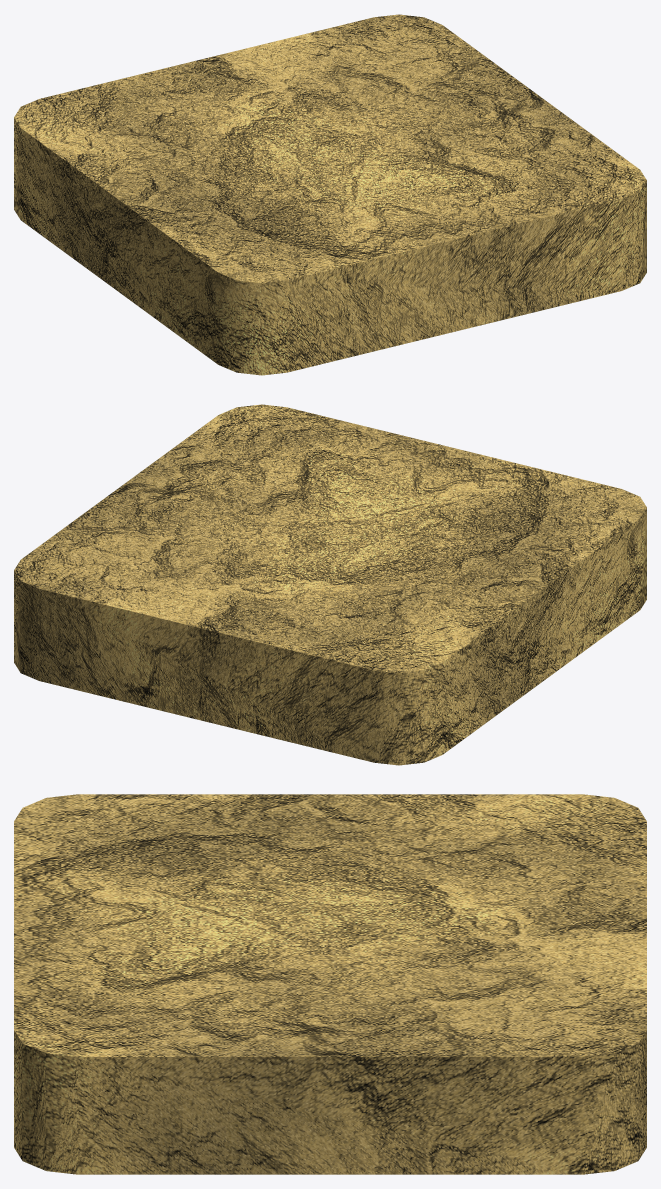
File: Base_tile.fbx
3 views of the same model, one above another, from view 1: azimuth 30°, elevation 25°; view 2: azimuth 150°, elevation 25°; view 3: azimuth 270°, elevation 25° (orthographic). The views are drawn at different scales.
Parts seen in each view (by area): view 1: pCube3; view 2: pCube3; view 3: pCube3.
Boxes of the visible parts, x1=… form: pCube3: x1=14, y1=14, x2=646, y2=375; pCube3: x1=14, y1=404, x2=646, y2=765; pCube3: x1=14, y1=794, x2=646, y2=1174.
Bounding box in the file's own units: 2 × 0.4186 × 2.04.
1 material, 1 textured.
